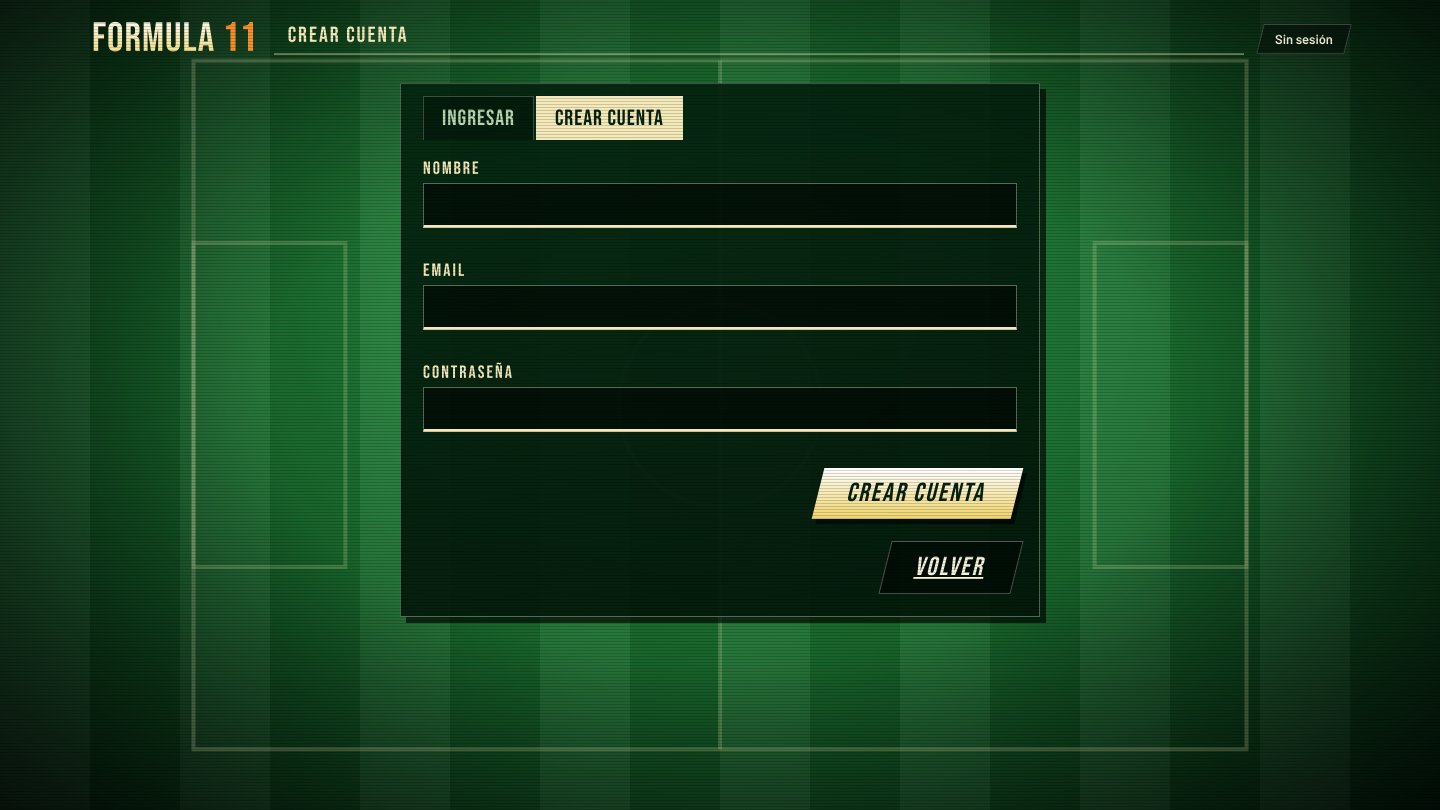
Test: registro › muestra un conflicto de email con mensaje y correlationId
Type "Ana" into the field labelled "Nombre" at [720, 206], box [423, 183, 1017, 228]
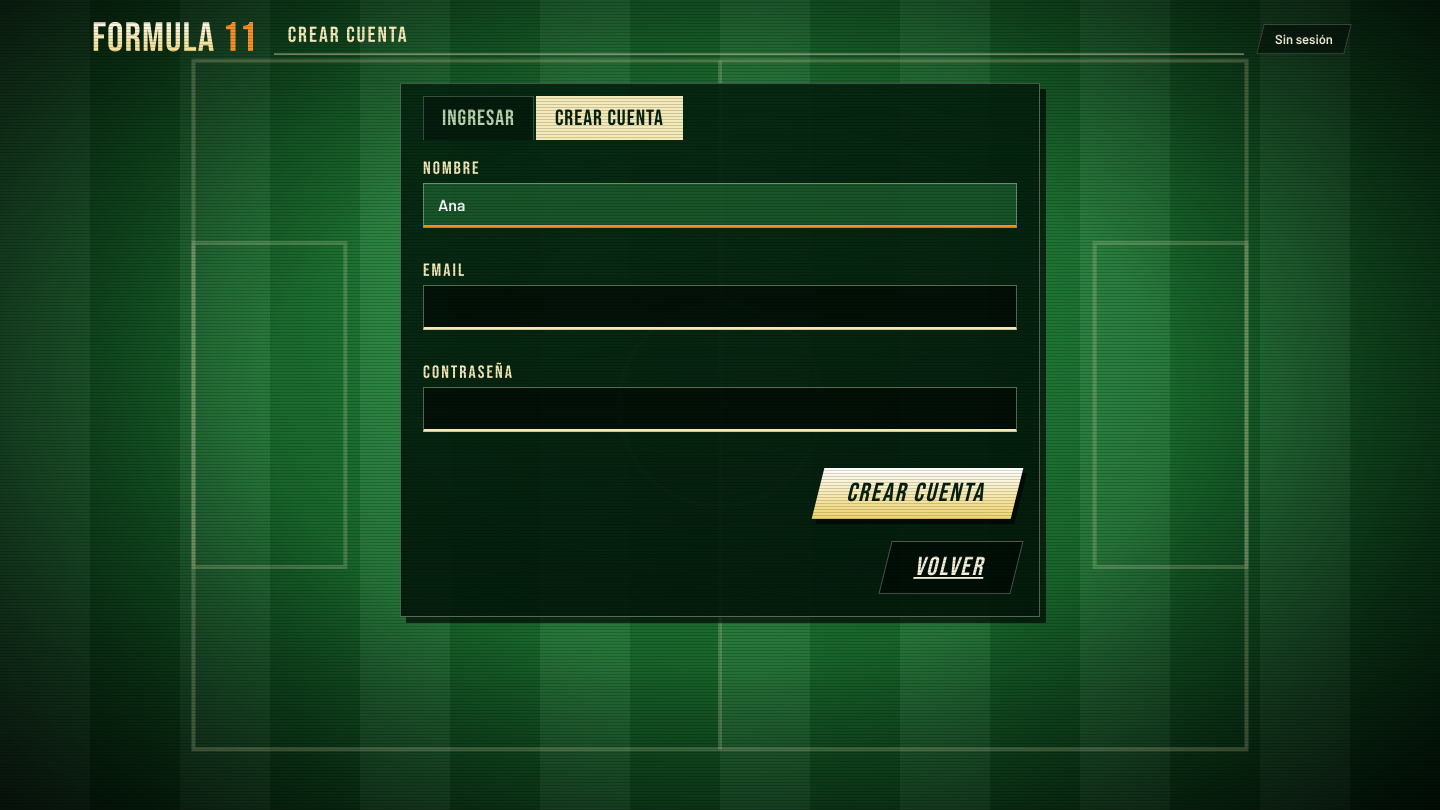
Type "duplicado@example.com" into the field labelled "Email" at [720, 308], box [423, 285, 1017, 330]
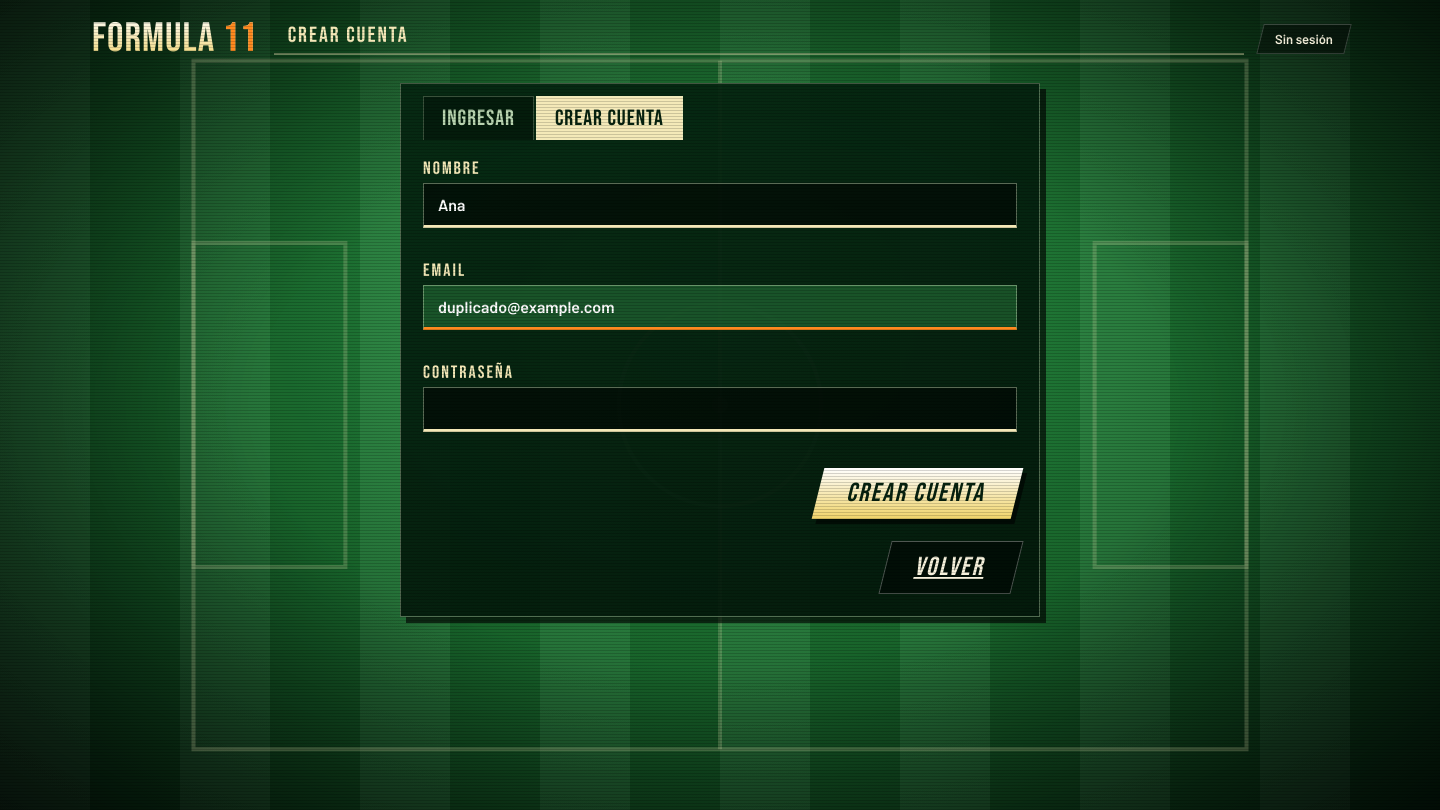
Type "Secreto123!" into the password field labelled "Contraseña" at [720, 410], box [423, 387, 1017, 432]
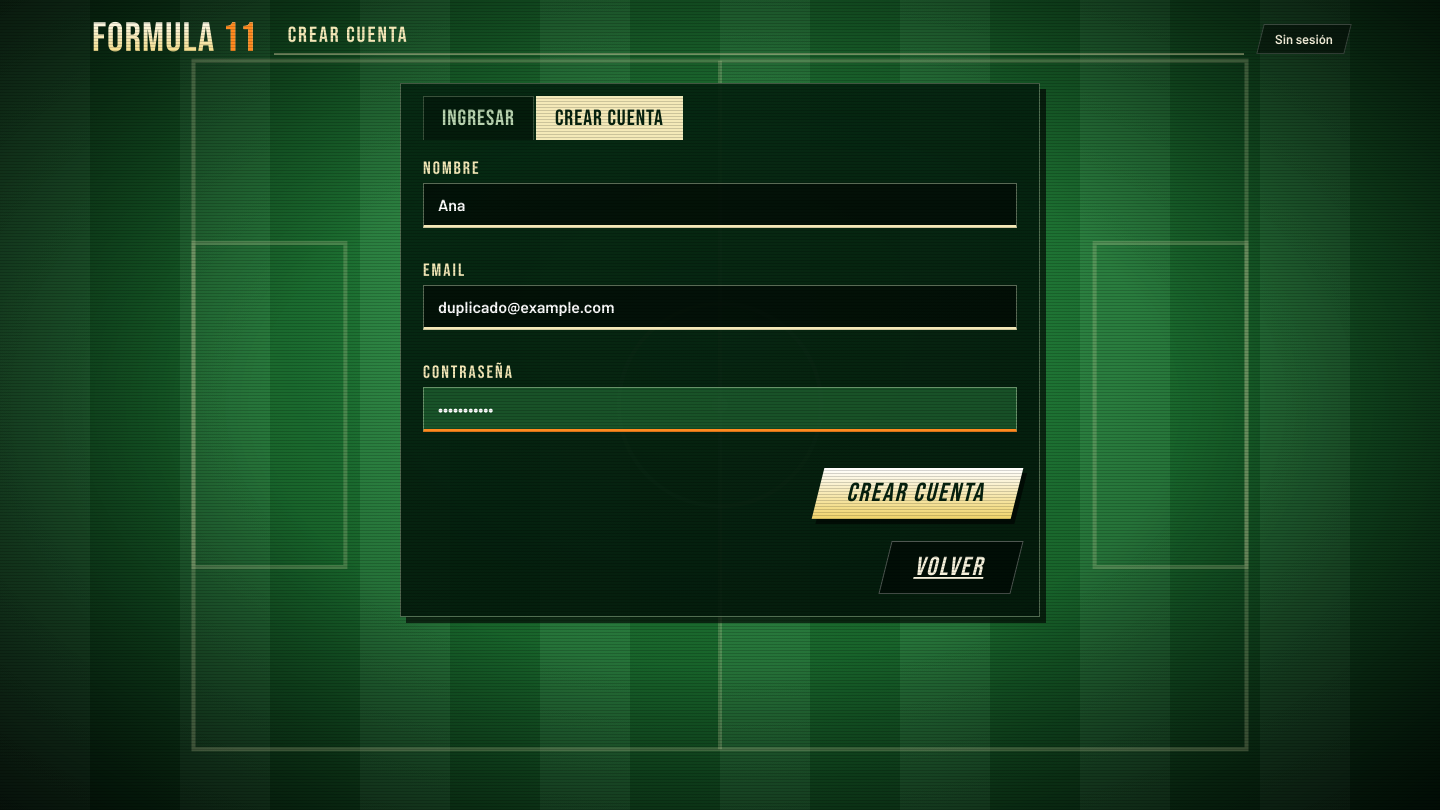
Click the button "Crear cuenta" at [918, 494], box [812, 468, 1023, 519]
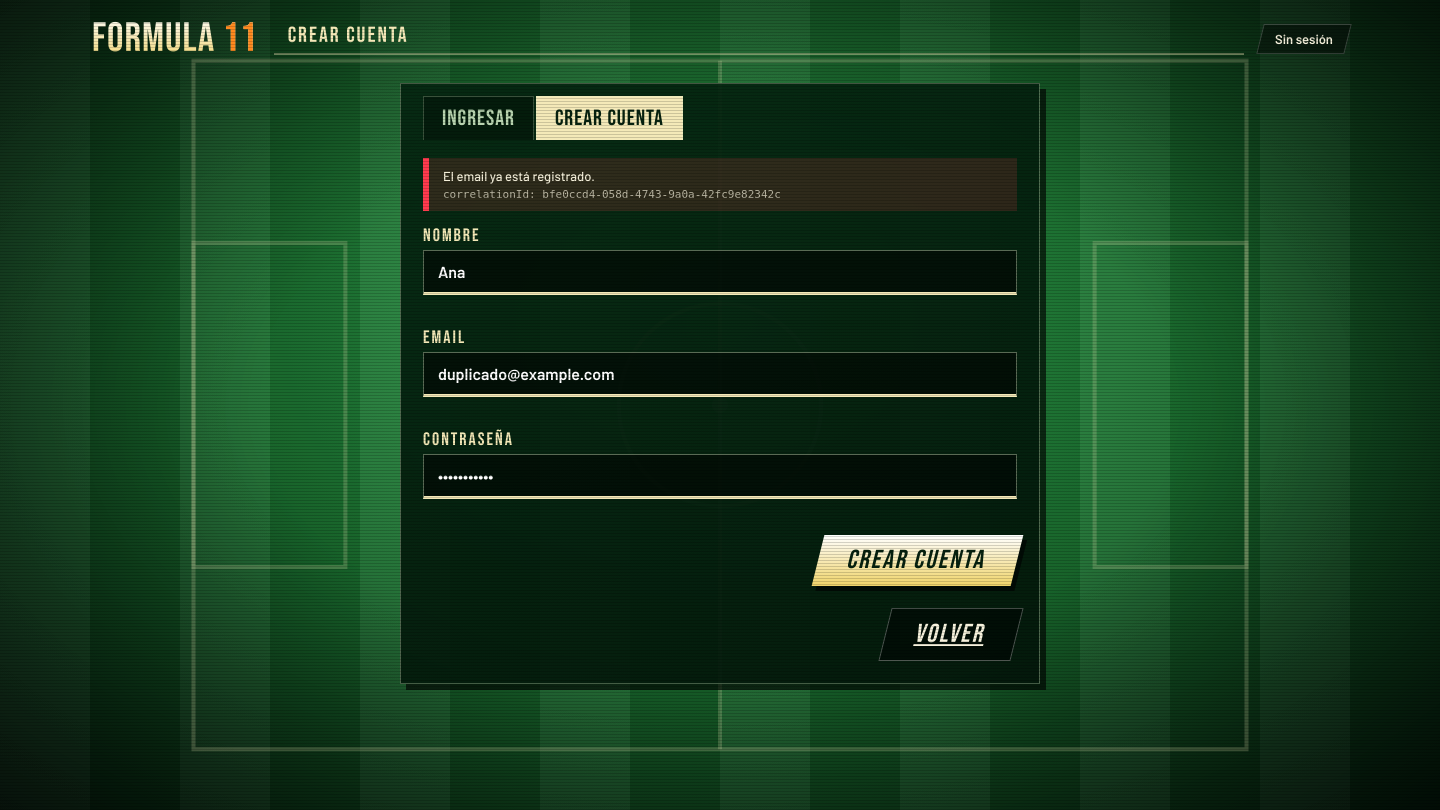
Result: the text "El email ya está registrado." is shown at [443, 168, 595, 184]
Result: the text "correlationId:" is shown at [443, 188, 542, 201]
